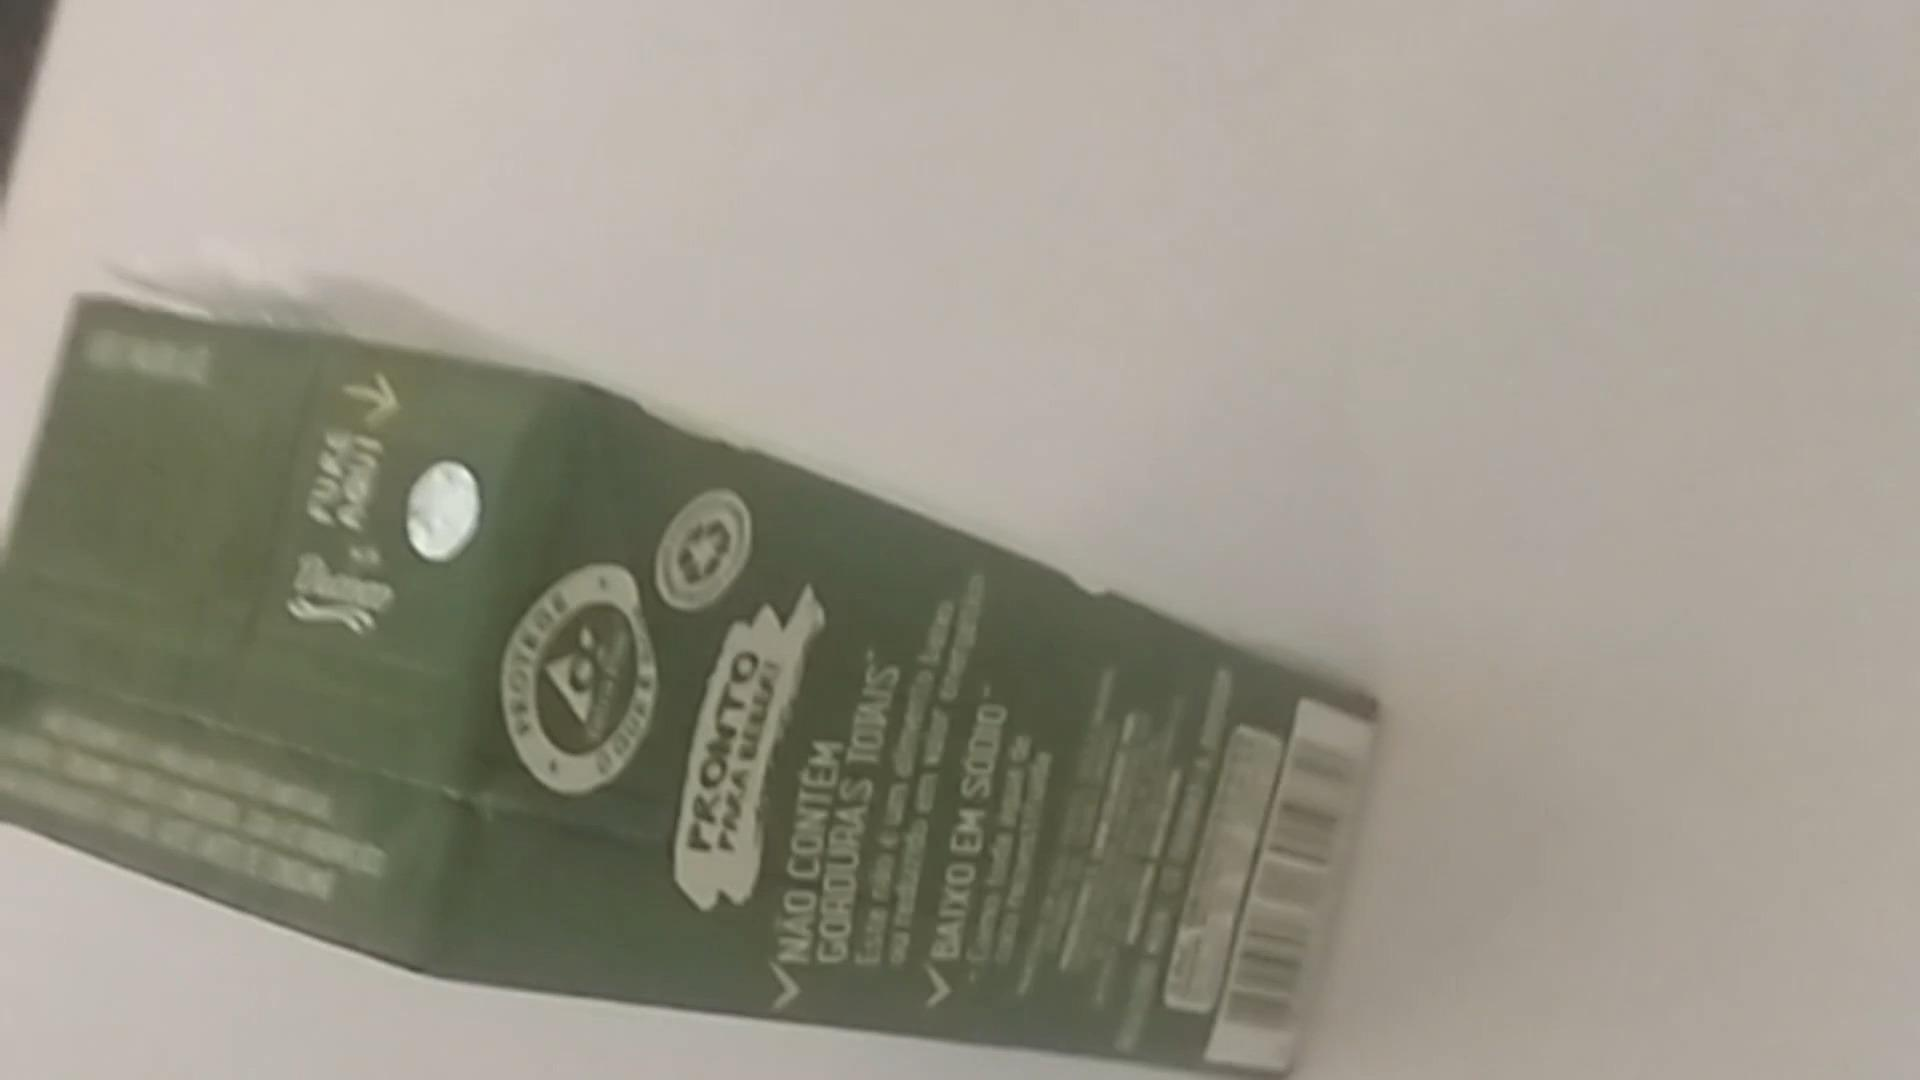coco: (18, 295, 1378, 1077)
